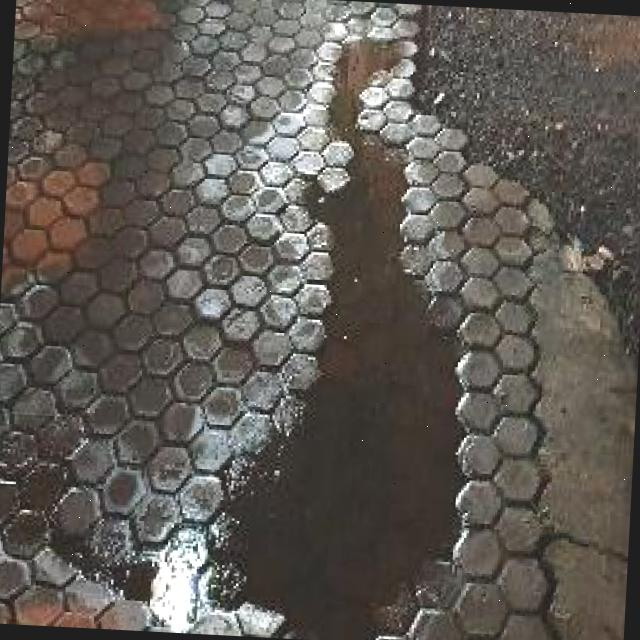stagnation: (188, 25, 497, 638)
